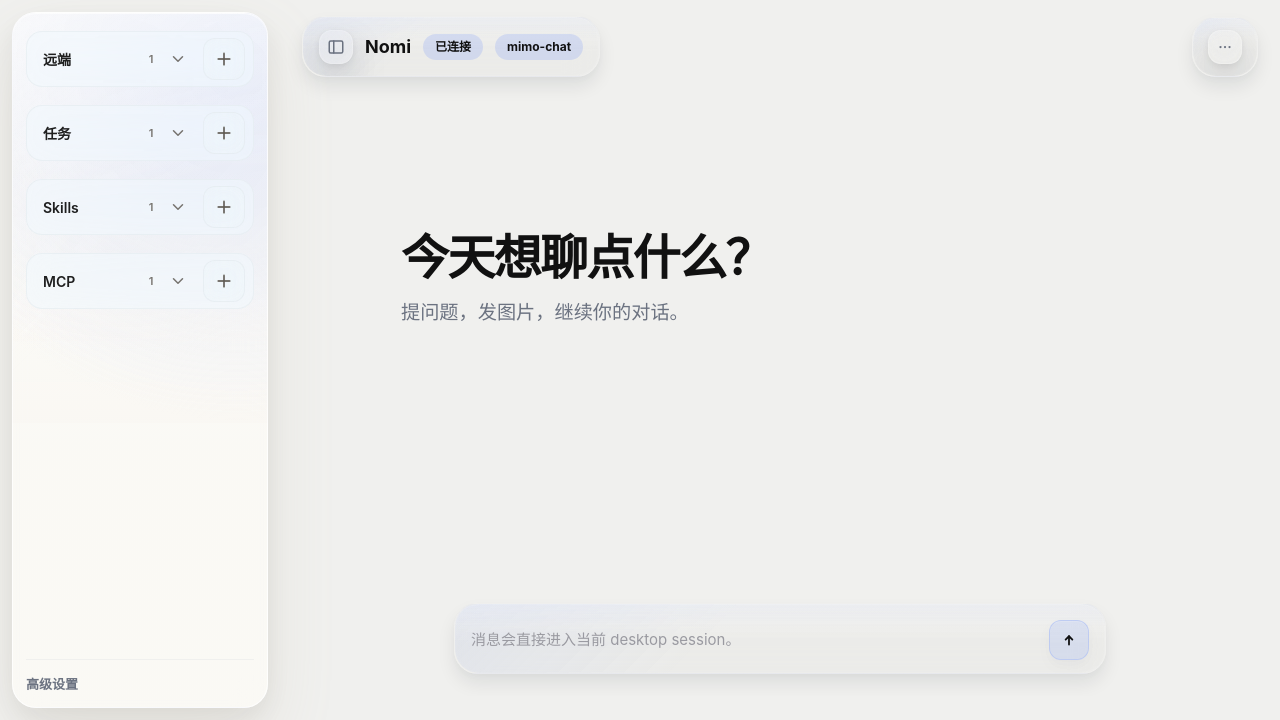
MainShell HTTP resource actions › shows active model in header and removes pending model settings meta
This screenshot has width=1280, height=720.
Check: the text "mimo-chat" is shown, box top-left (495, 34), bottom-right (583, 60)
Click the button named "打开设置菜单": (1225, 46) top-left (1208, 30), bottom-right (1242, 64)
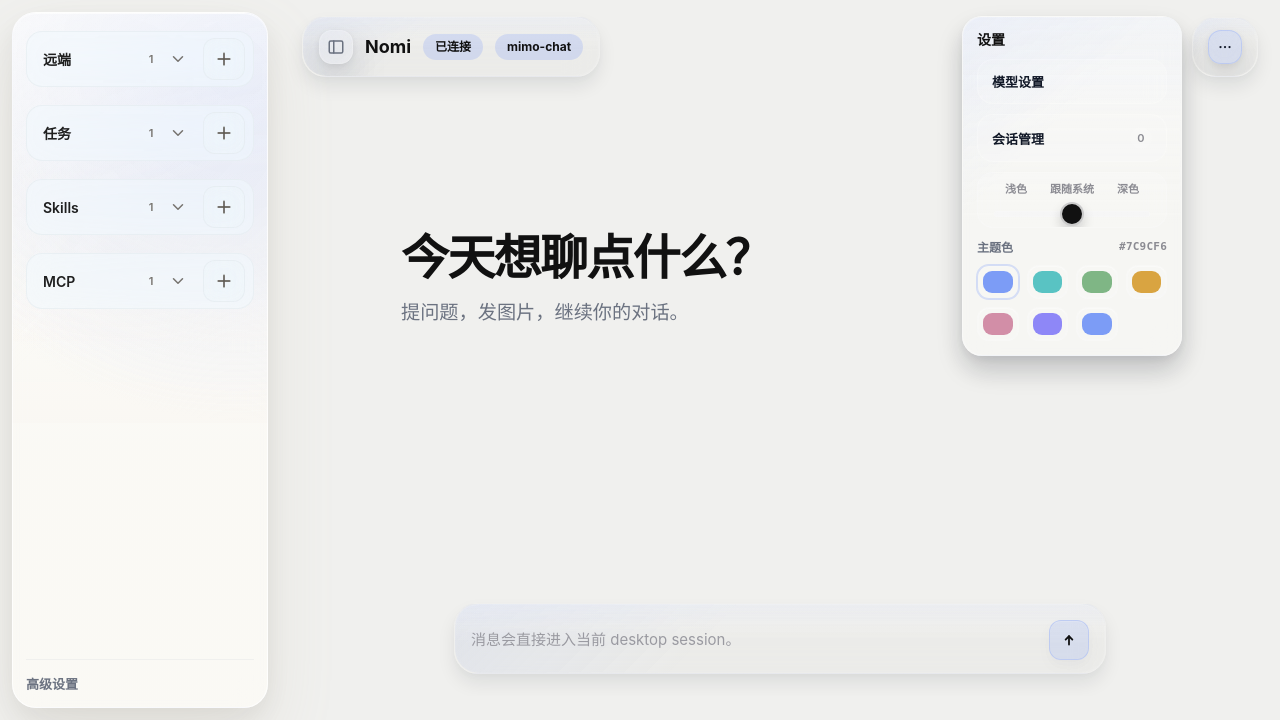
Check: the button "模型设置" is shown, box top-left (977, 59), bottom-right (1167, 104)
